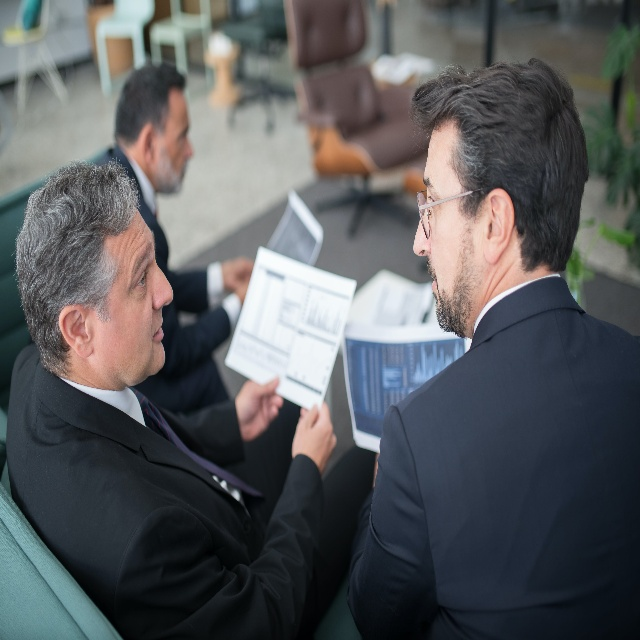Gafas: (416, 183, 484, 240)
Sin_guantes: (234, 373, 284, 446), (291, 399, 337, 476)
